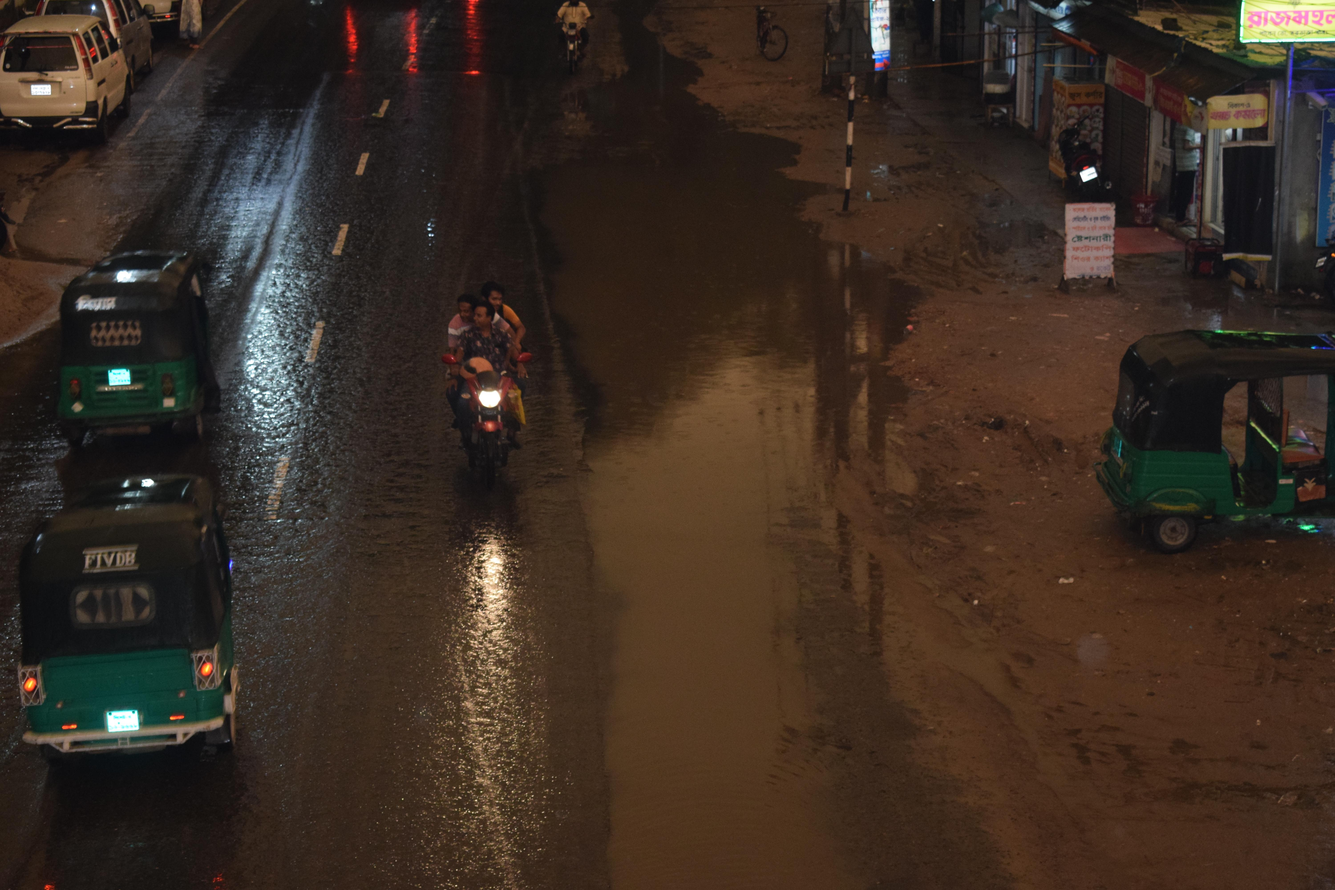Bike: (399, 235, 584, 523), (538, 0, 604, 89)
Car: (0, 0, 150, 156), (32, 0, 185, 83)
